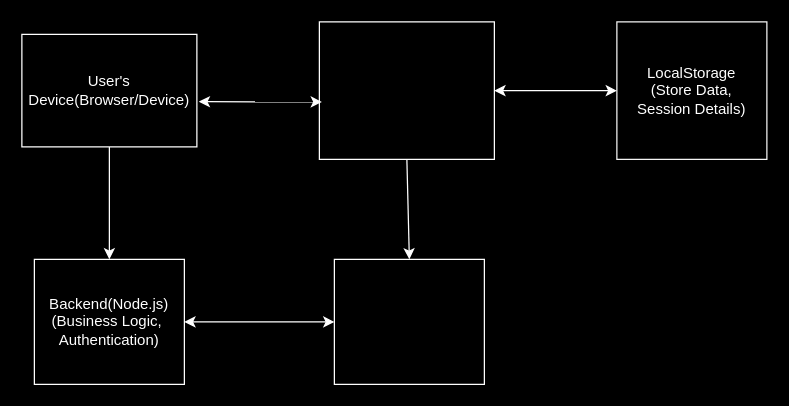
The diagram is 789 pixels wide and 406 high, and some of its shapes have lost their labels. Each missing label, with the box of its shape:
MySQL Database (Fitzeal Data, Food Details): (333, 258, 484, 384)
React Frontend (Login, Register ,Trackers, Graphs): (318, 21, 494, 159)
